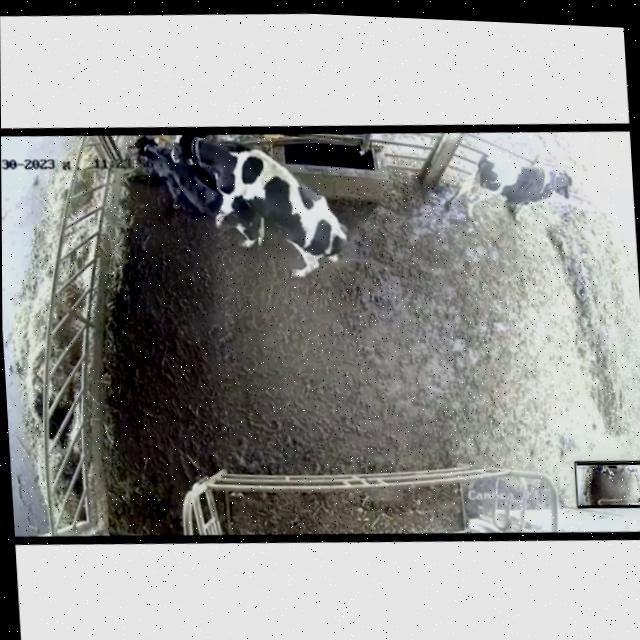ride: (165, 124, 361, 295)
